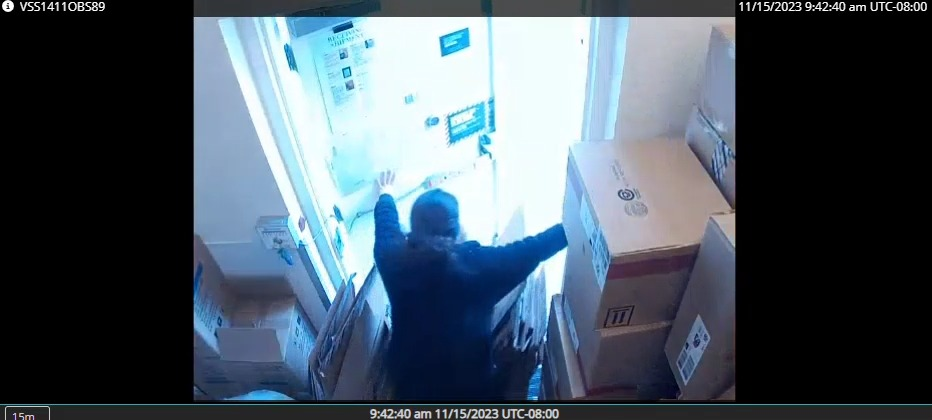No-gloves: (372, 166, 414, 203)
